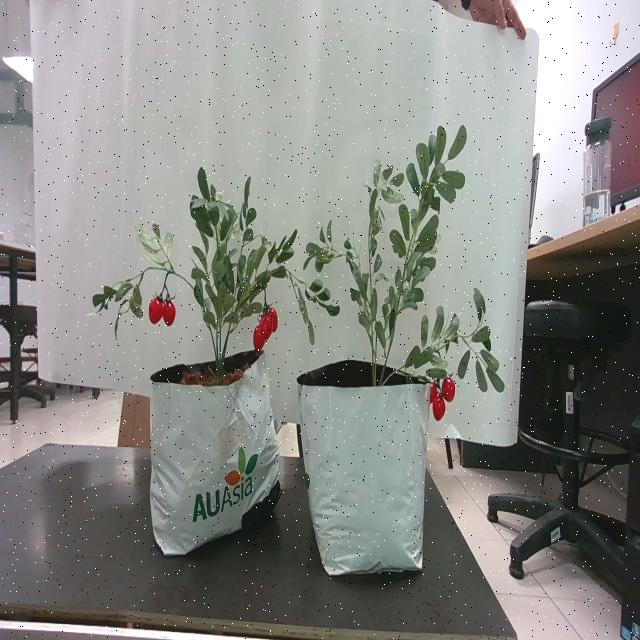Soilbag: (297, 361, 432, 580), (148, 351, 282, 559)
Tomato: (252, 308, 279, 357), (428, 379, 455, 424), (148, 287, 177, 328)
plant: (305, 126, 504, 423), (88, 168, 340, 386)
